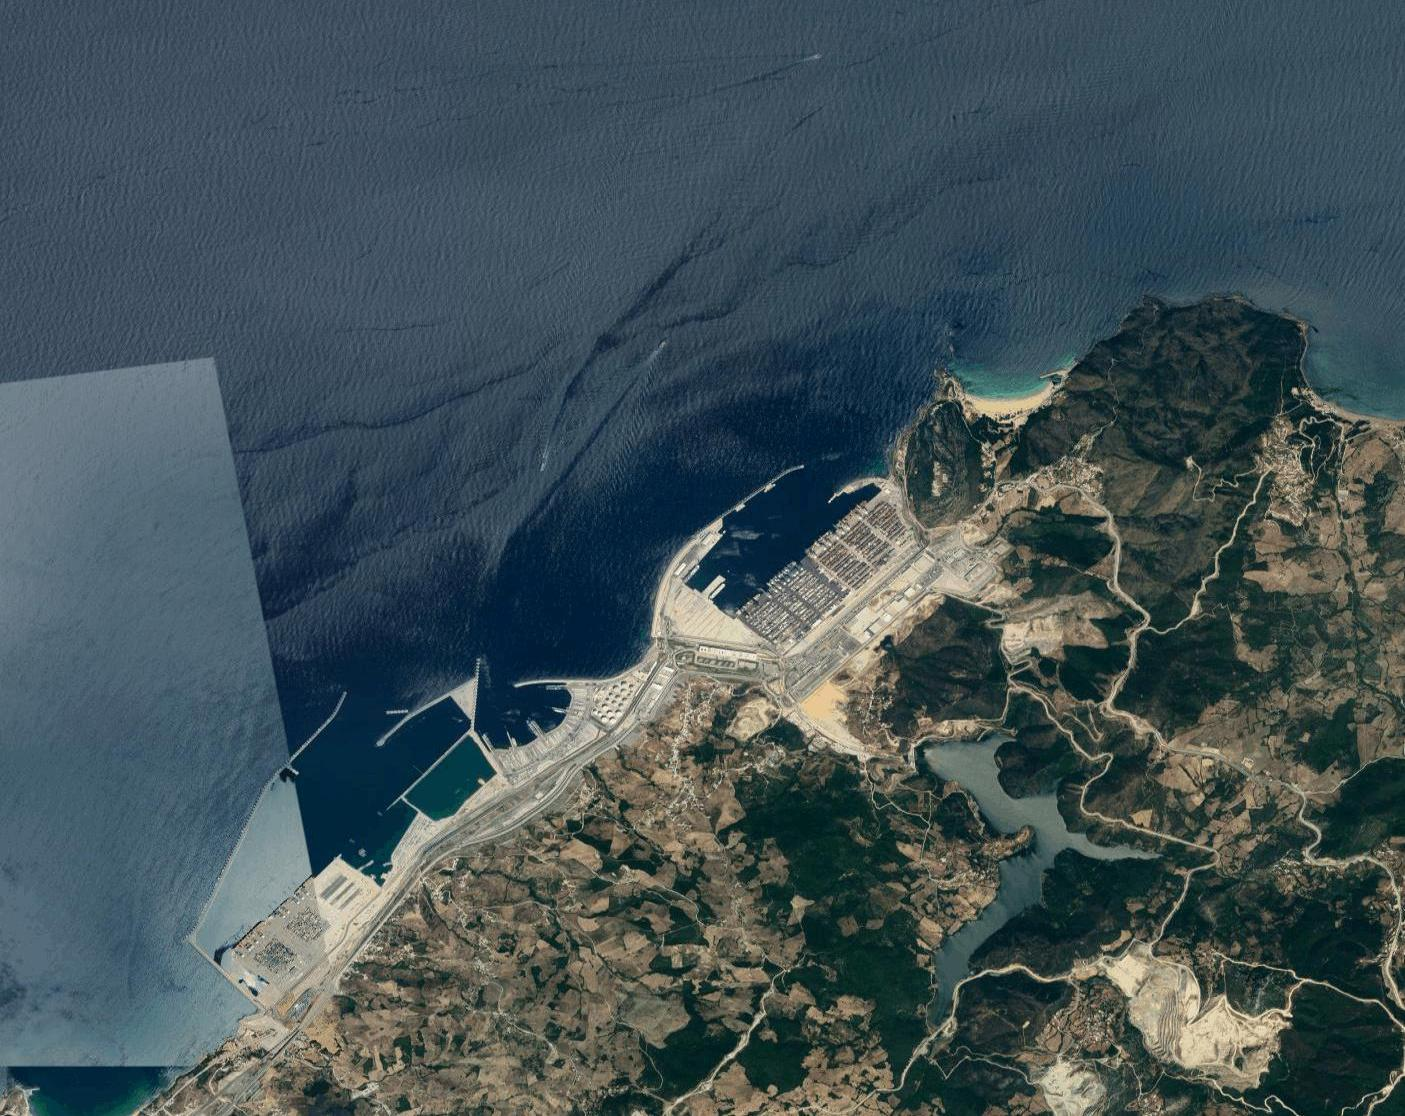harbor: (211, 649, 618, 969), (653, 457, 902, 650)
